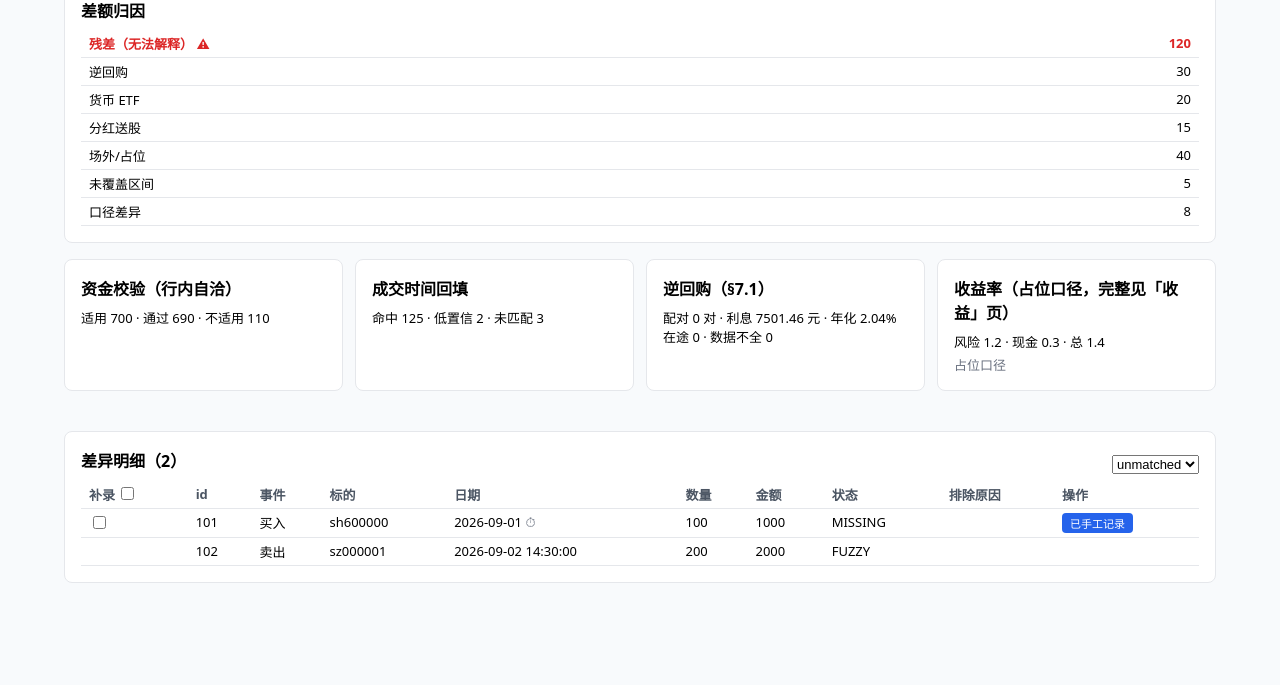
Test: T144 对账报告 /broker/reconcile › T145 补录：勾选缺失行 → 类型可修正 → 确认 → 结果（成功 1 / 不可补 1）
(page scrolled)
Expected: the heading "差异明细（2）" is shown, [81,448,186,472]
// 勾选缺失行 #101（FUZZY 的 #102 也可勾但数量/标的齐全；这里勾 MISSING）
Click the checkbox named "全选本页可补录" at (128, 494), box [121,487,134,500]
(page scrolled)
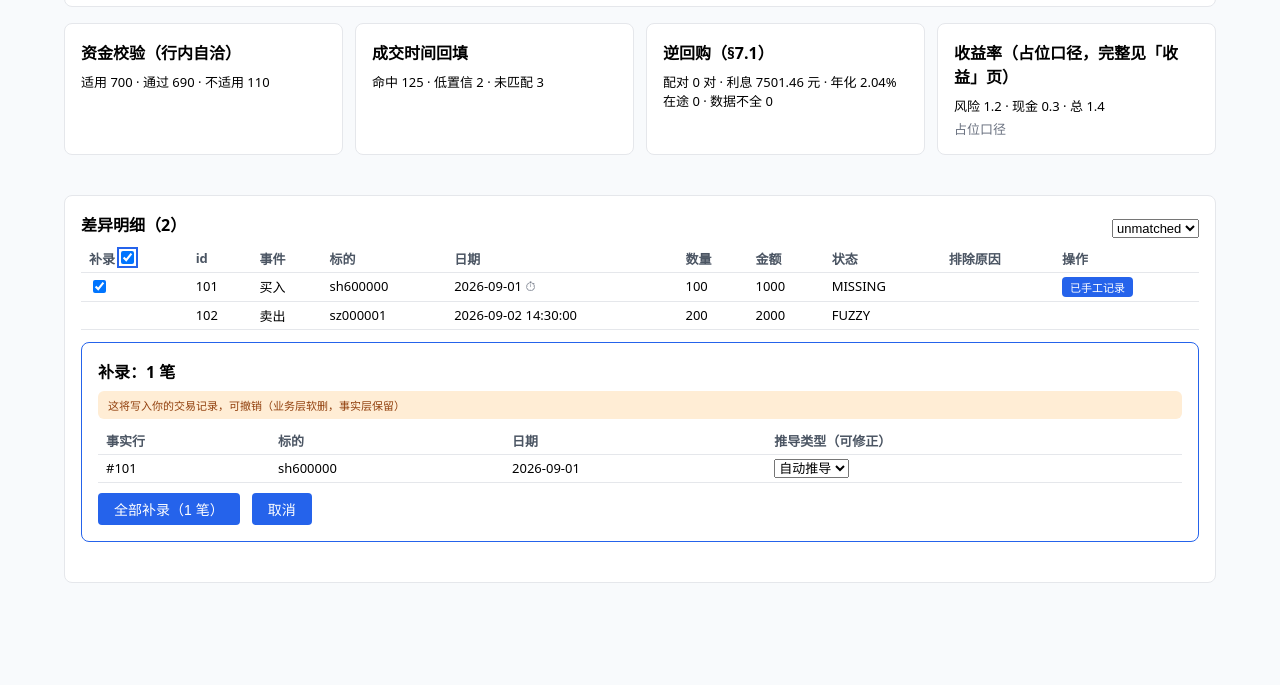
Result: the text "这将写入你的交易记录，可撤销（业务层软删，事实层保留）" is shown at [98,391,1182,419]
// trade_type 可修正：把第 1 行改成 reduce
Select "reduce" in the dropdown below "推导类型（可修正）" at (812, 469), box [774,459,849,478]
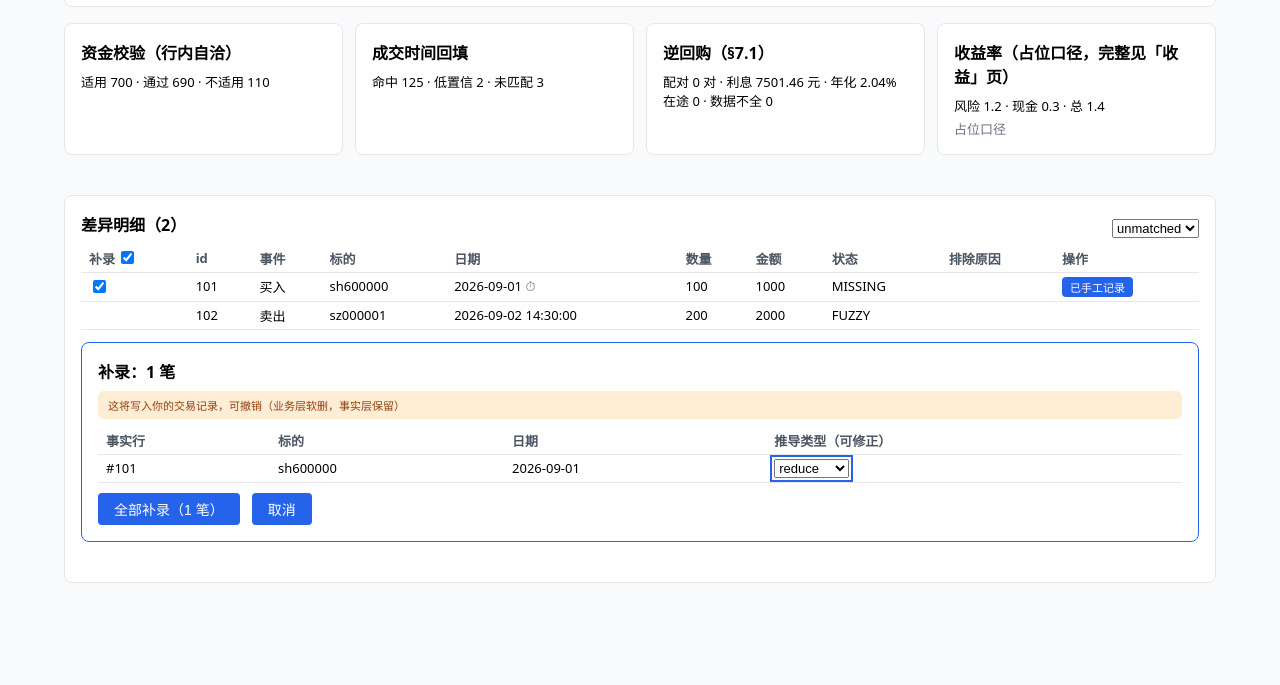
Click the button "全部补录（1 笔）" at (169, 509), box [98,493,240,525]
(page scrolled)
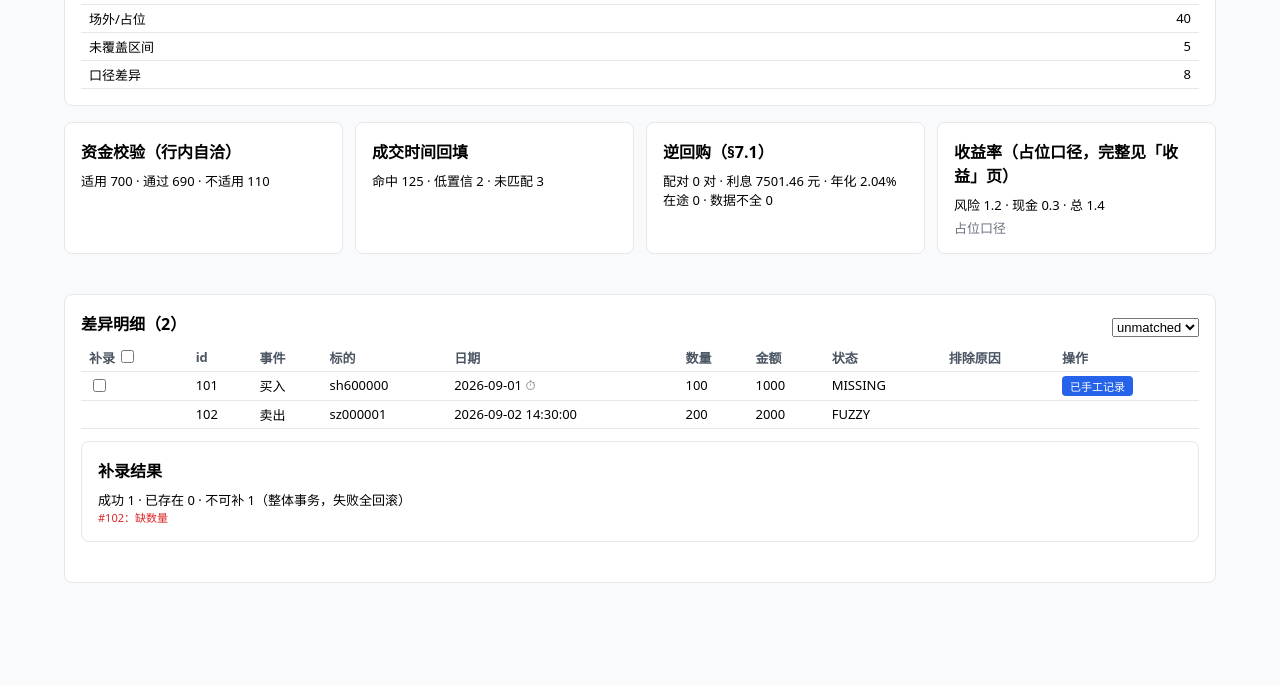
Result: the heading "补录结果" is shown at [98,460,162,482]
Result: the text "成功 1 · 已存在 0 · 不可补 1（整体事务，失败全回滚）" is shown at [98,491,411,509]
